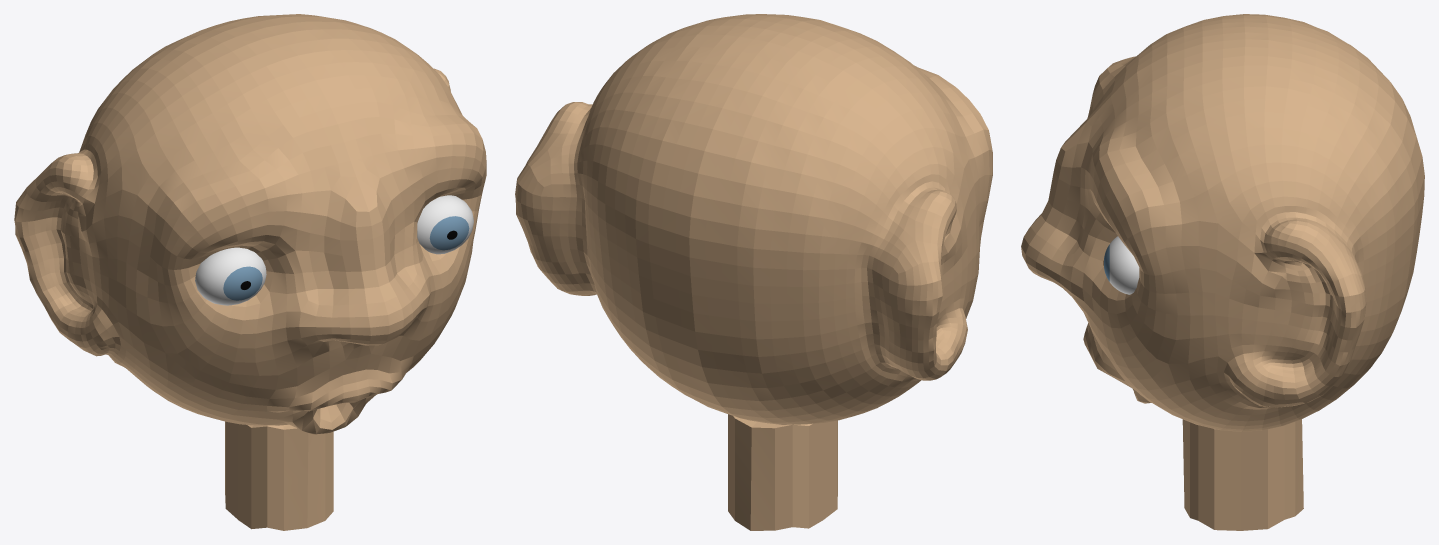
File: Baby_head.fbx
The picture shows the model from 3 angles, left to right: view 1: azimuth 30°, elevation 25°; view 2: azimuth 150°, elevation 25°; view 3: azimuth 270°, elevation 25°; orthographic projection.
Visible parts, largest first — view 1: Baby_head; view 2: Baby_head; view 3: Baby_head.
Part boxes in pixels (x1,y1,x2,y2): Baby_head: [14, 14, 486, 530]; Baby_head: [515, 14, 992, 530]; Baby_head: [1021, 14, 1424, 530].
Bounding box in the file's own units: 2.36 × 2.56 × 1.97.
